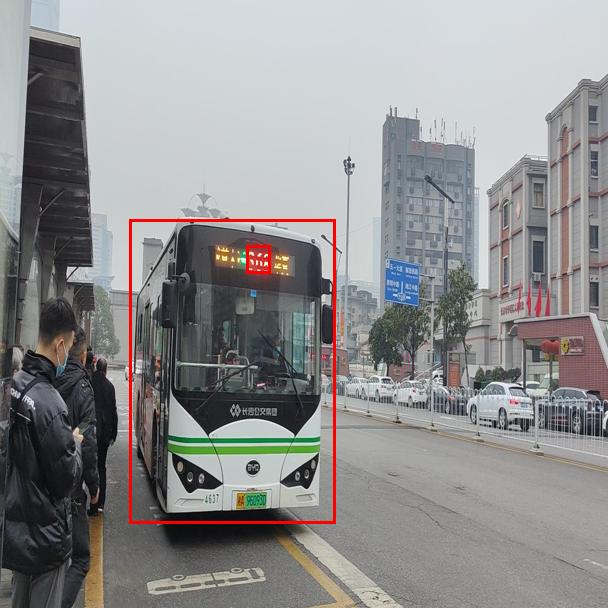bus: (129, 219, 335, 523)
screen: (246, 245, 270, 273)
